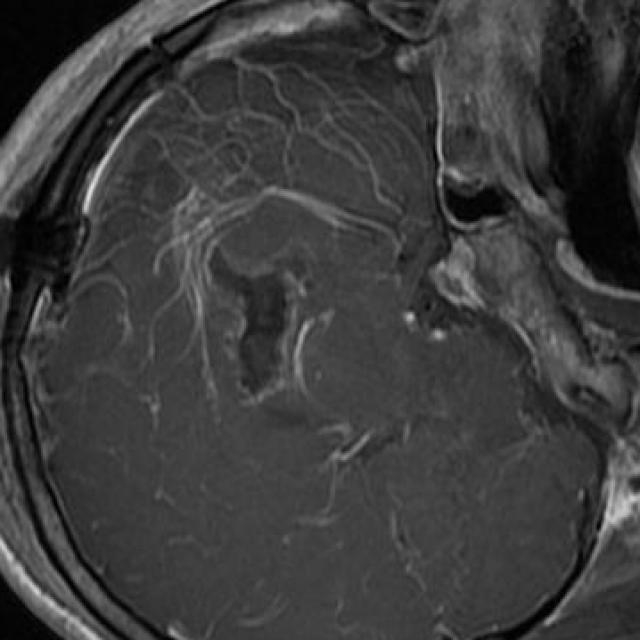glioma: (210, 246, 307, 396)
